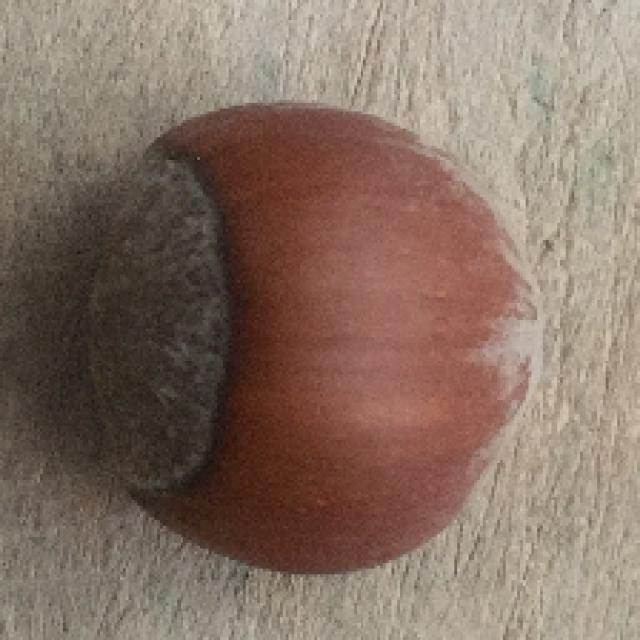qualityHazelnut: (88, 103, 540, 579)
